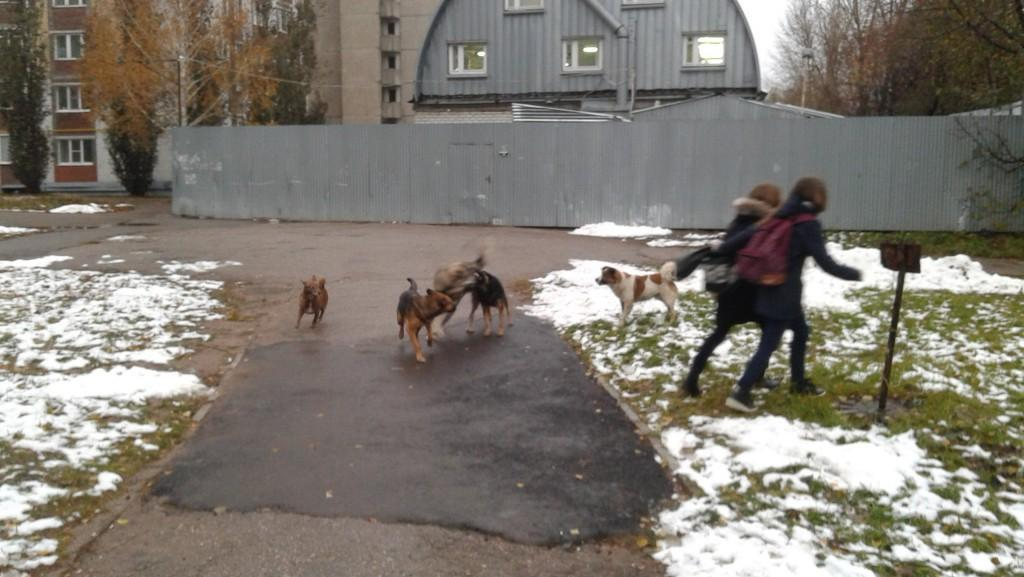normal_dogs: (435, 258, 527, 341), (386, 266, 456, 368), (588, 260, 686, 330), (294, 270, 334, 328)
